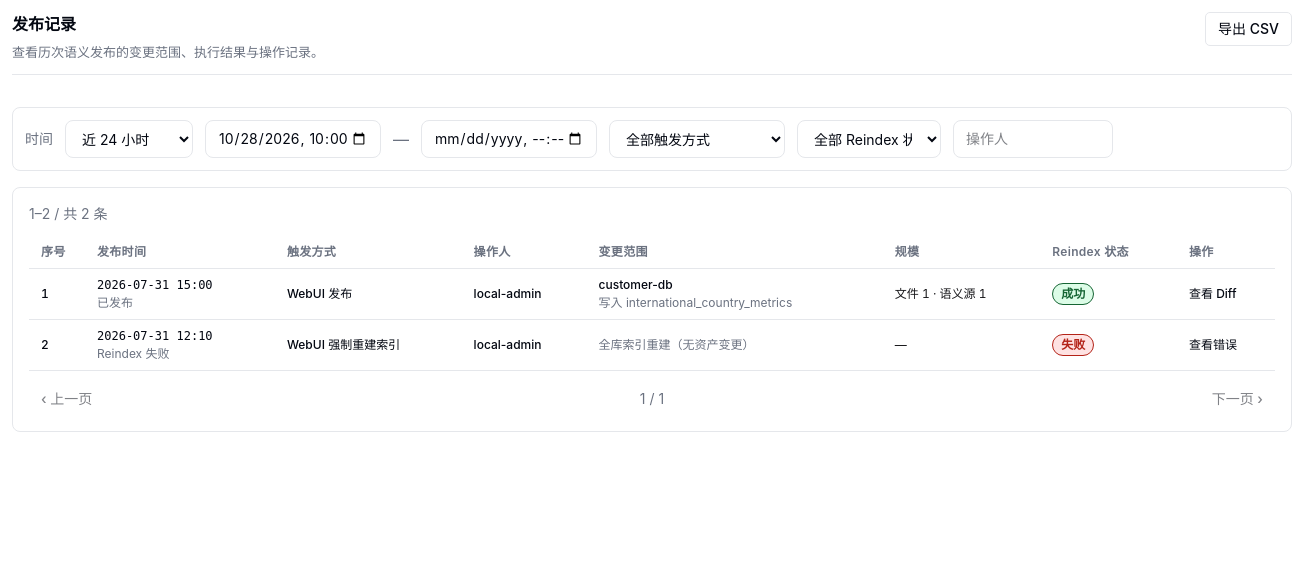
PublishHistory › expands the diff panel when 查看 Diff is clicked
Step 1. Click the button "查看 Diff" → (1213, 294), box x1=1189 y1=286 x2=1236 y2=302
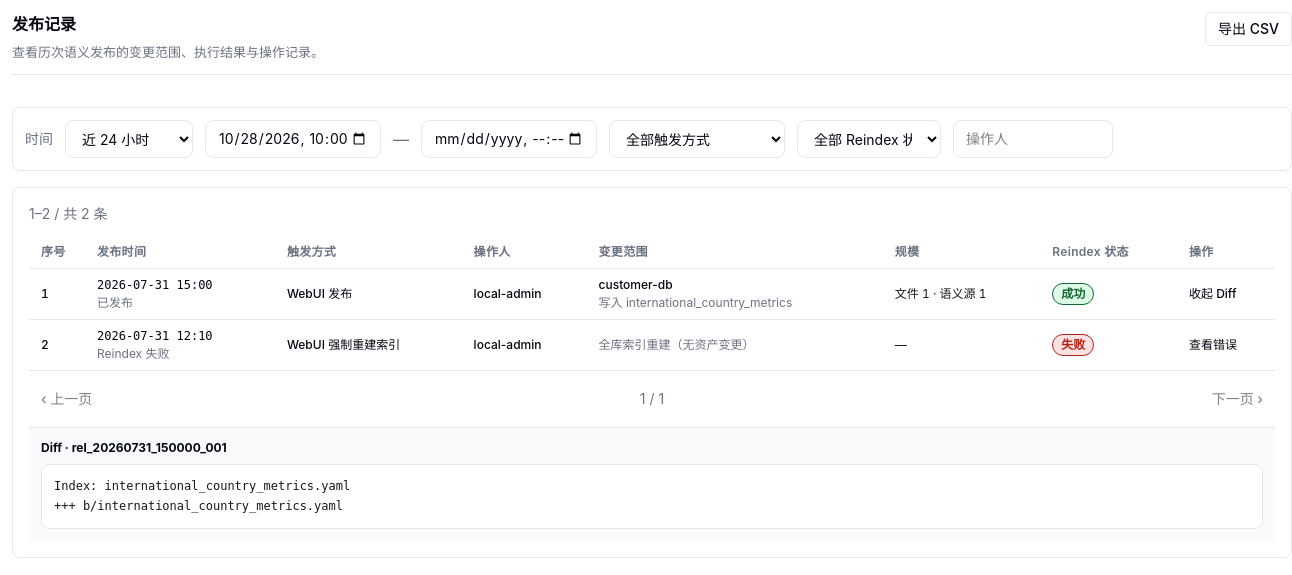
Result: the element with test id "publish-history-expanded-panel" shows "Index: international_country_metrics.yaml" at x1=54 y1=479 x2=350 y2=512
Result: the button "收起 Diff" is shown at x1=1189 y1=286 x2=1236 y2=302
